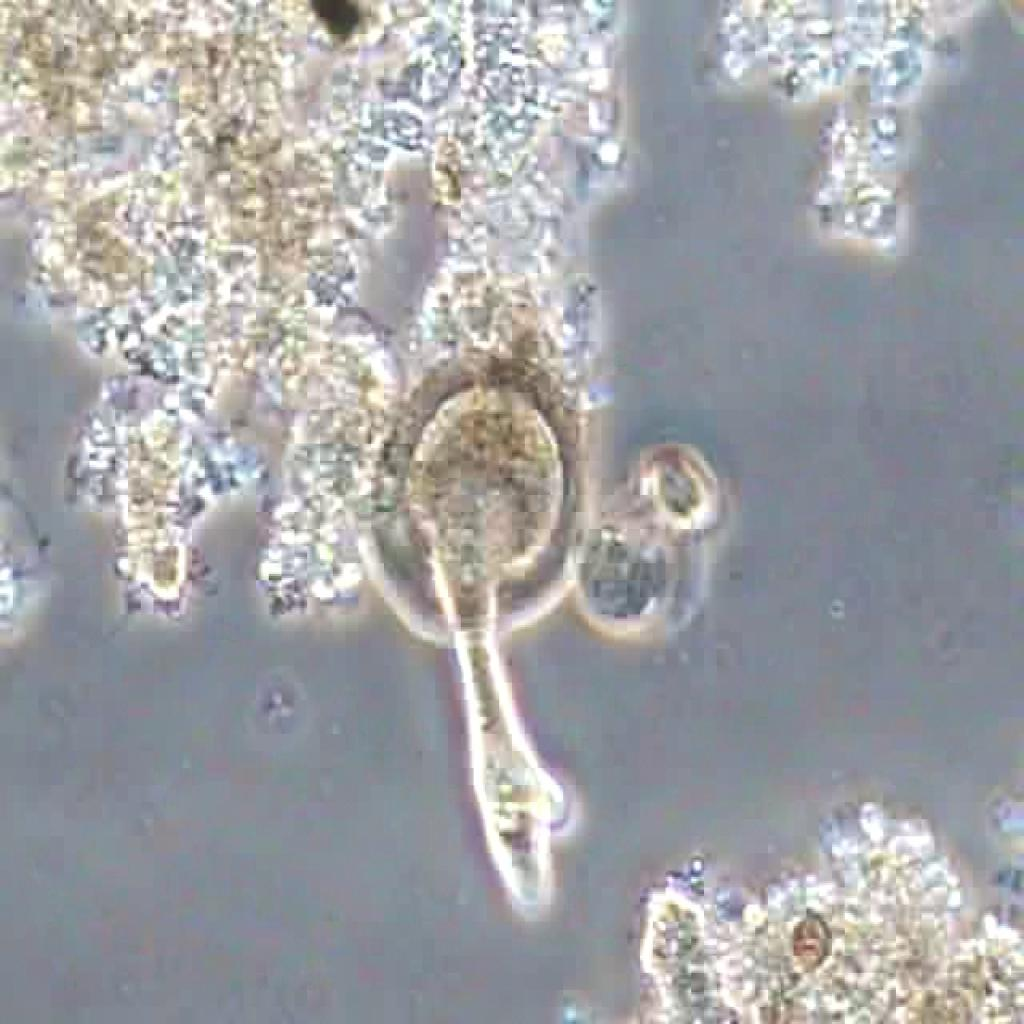Arcella: (355, 334, 613, 925)
